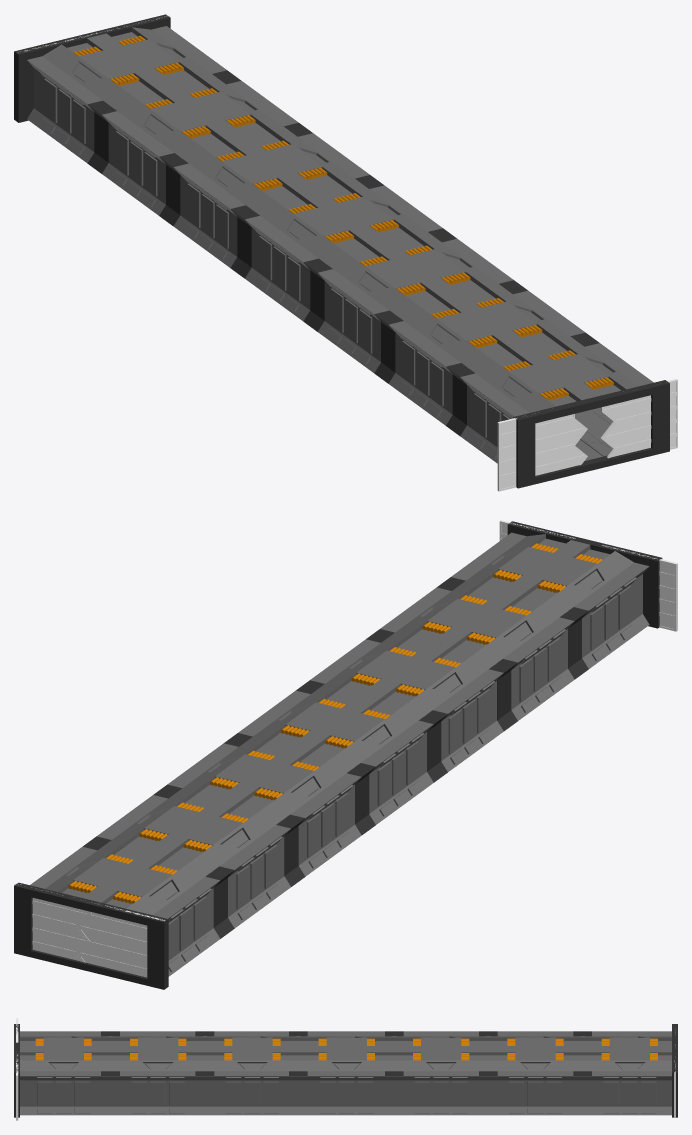
The model's file is corridor.obj.
The picture shows the model from 3 angles, top to bottom: view 1: azimuth 30°, elevation 25°; view 2: azimuth 150°, elevation 25°; view 3: azimuth 270°, elevation 25°; orthographic projection. The views are drawn at different scales.
Visible parts, largest first — view 1: Sci:fi:corridor, frame, pipes, door:2, door:1, frame_1; view 2: Sci:fi:corridor, frame_1, pipes, door:2_1, door:1_1, frame, door:2; view 3: Sci:fi:corridor, pipes, frame_1, frame, door:1.
Boxes of the visible parts, <box> form: Sci:fi:corridor: <box>27,26,653,463</box>; frame: <box>513,380,669,488</box>; pipes: <box>73,36,613,400</box>; door:2: <box>497,414,587,491</box>; door:1: <box>600,378,677,458</box>; frame_1: <box>14,14,170,122</box>; Sci:fi:corridor: <box>30,532,649,976</box>; frame_1: <box>14,882,168,989</box>; pipes: <box>68,543,601,903</box>; door:2_1: <box>76,902,165,977</box>; door:1_1: <box>14,883,89,961</box>; frame: <box>507,521,662,628</box>; door:2: <box>602,545,677,631</box>; Sci:fi:corridor: <box>20,1031,671,1115</box>; pipes: <box>35,1038,657,1060</box>; frame_1: <box>672,1024,677,1117</box>; frame: <box>14,1024,19,1117</box>; door:1: <box>16,1054,18,1120</box>.
Bounding box in the file's own units: 4849 × 1766 × 23663.
